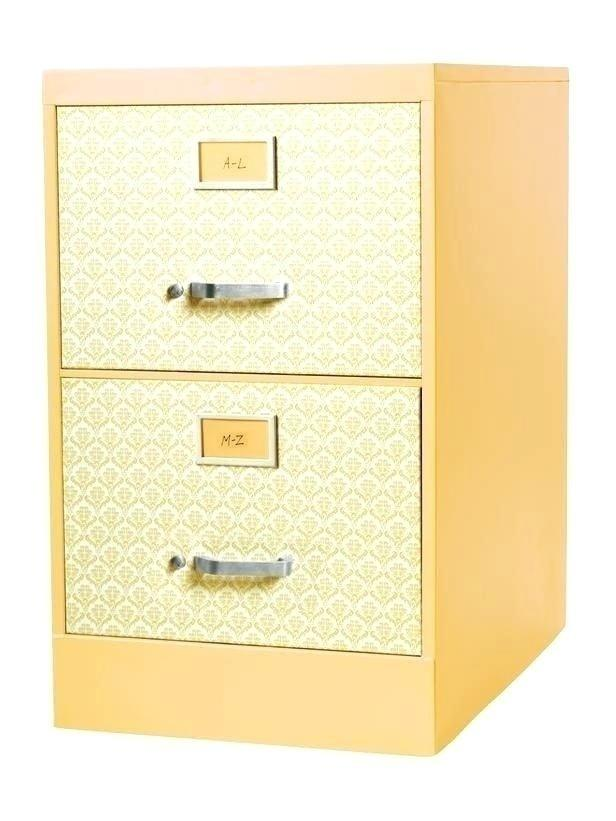cabinet_door: (65, 107, 424, 370), (66, 392, 425, 645)
handle: (185, 542, 293, 594), (177, 270, 293, 316)
